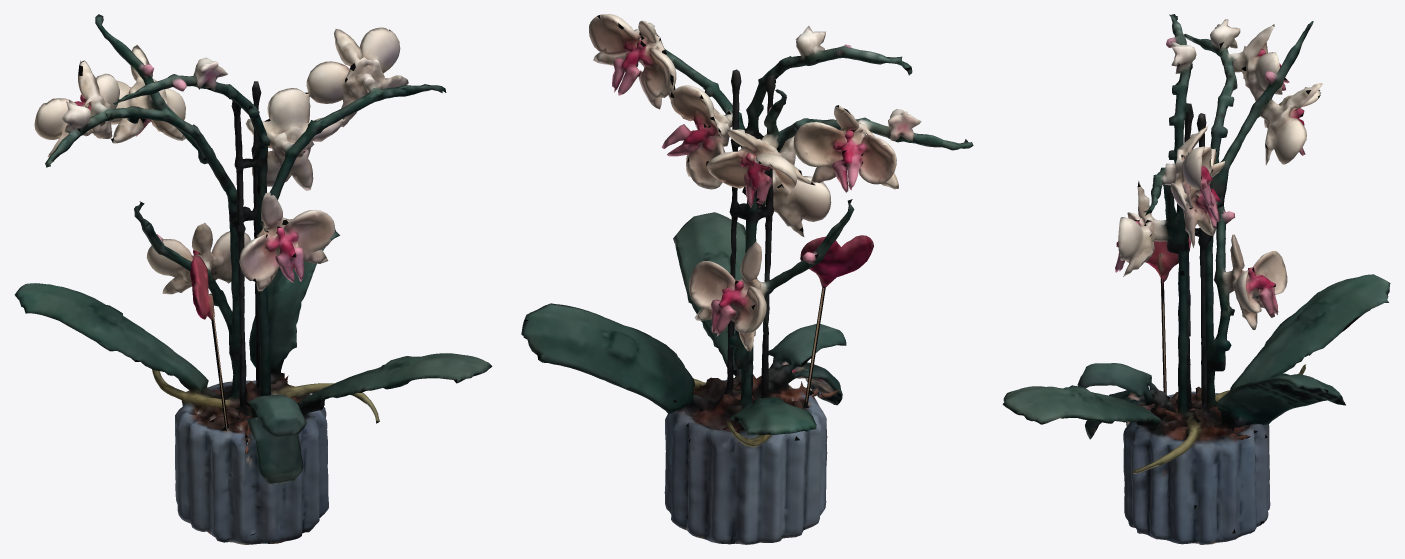
File: lego-blume.glb
3 renders of one model, left to right at view 1: azimuth 30°, elevation 25°; view 2: azimuth 150°, elevation 25°; view 3: azimuth 270°, elevation 25°, orthographic. The views are drawn at different scales.
Parts seen in each view (by area): view 1: lego-blume2; view 2: lego-blume2; view 3: lego-blume2.
Boxes of the visible parts, x1,y1,x2,y2 form: lego-blume2: (14,14,492,544); lego-blume2: (521,14,973,544); lego-blume2: (1002,14,1390,544).
Bounding box in the file's own units: 1.81 × 2.18 × 1.68.
1 material, 1 textured.
